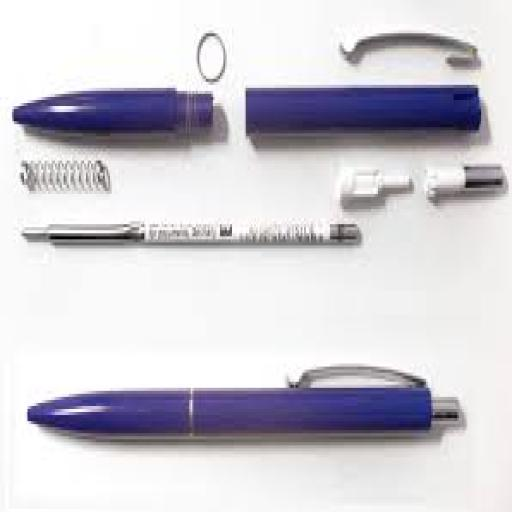tukenmez-kalem: (14, 366, 487, 467)
